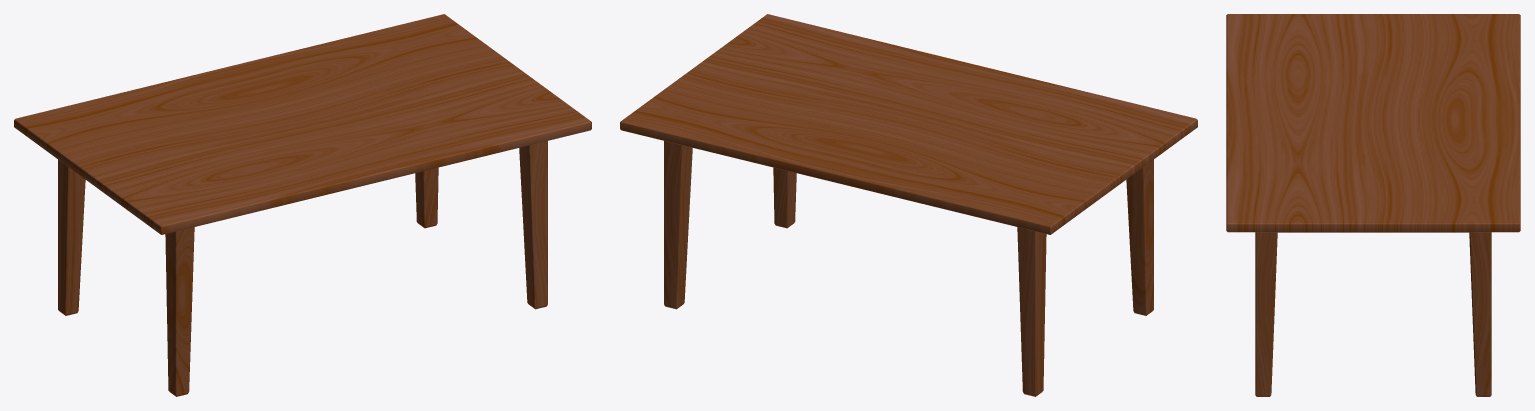
The model's file is Table_01.glb.
3 views of the same model, side by side, from view 1: azimuth 30°, elevation 25°; view 2: azimuth 150°, elevation 25°; view 3: azimuth 270°, elevation 25° (orthographic).
Visible parts, largest first — view 1: Table_01; view 2: Table_01; view 3: Table_01.
Boxes of the visible parts, x1,y1,x2,y2 form: Table_01: [14, 14, 591, 396]; Table_01: [620, 14, 1197, 396]; Table_01: [1226, 14, 1520, 396].
Bounding box in the file's own units: 1.74 × 0.7295 × 1.03.
1 material, 1 textured.
